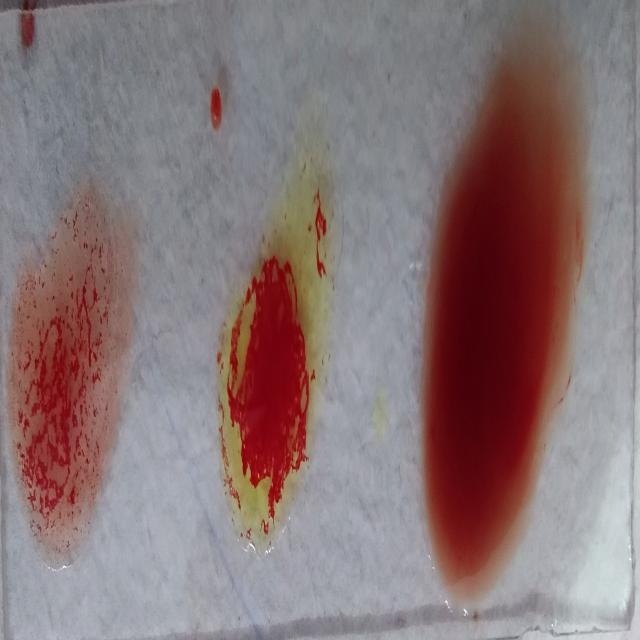B: (218, 133, 333, 562)
D: (10, 184, 123, 566)
